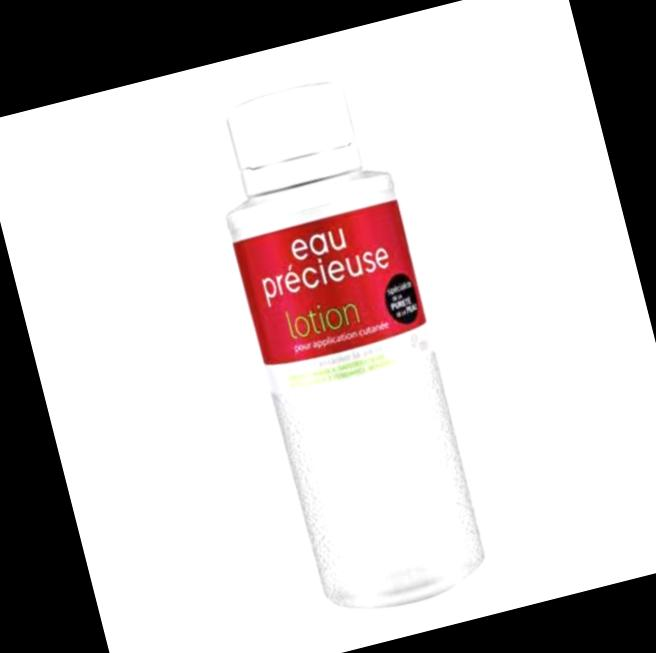cosmetic: (198, 70, 488, 602)
